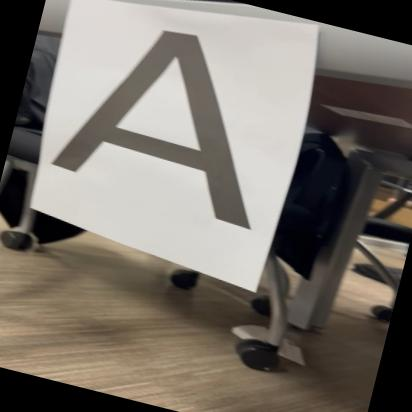seat: (35, 3, 304, 239)
